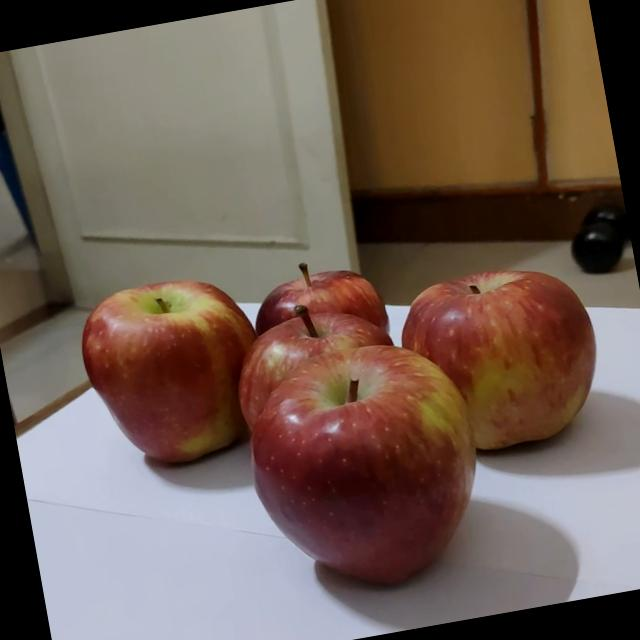apple: (223, 320, 502, 608), (386, 245, 612, 467), (61, 256, 272, 482), (220, 288, 412, 429), (238, 241, 396, 370)
